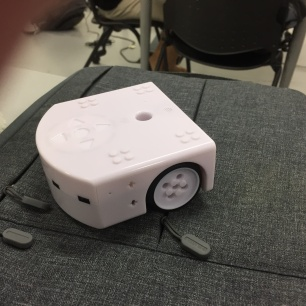thymio: (23, 76, 220, 243)
